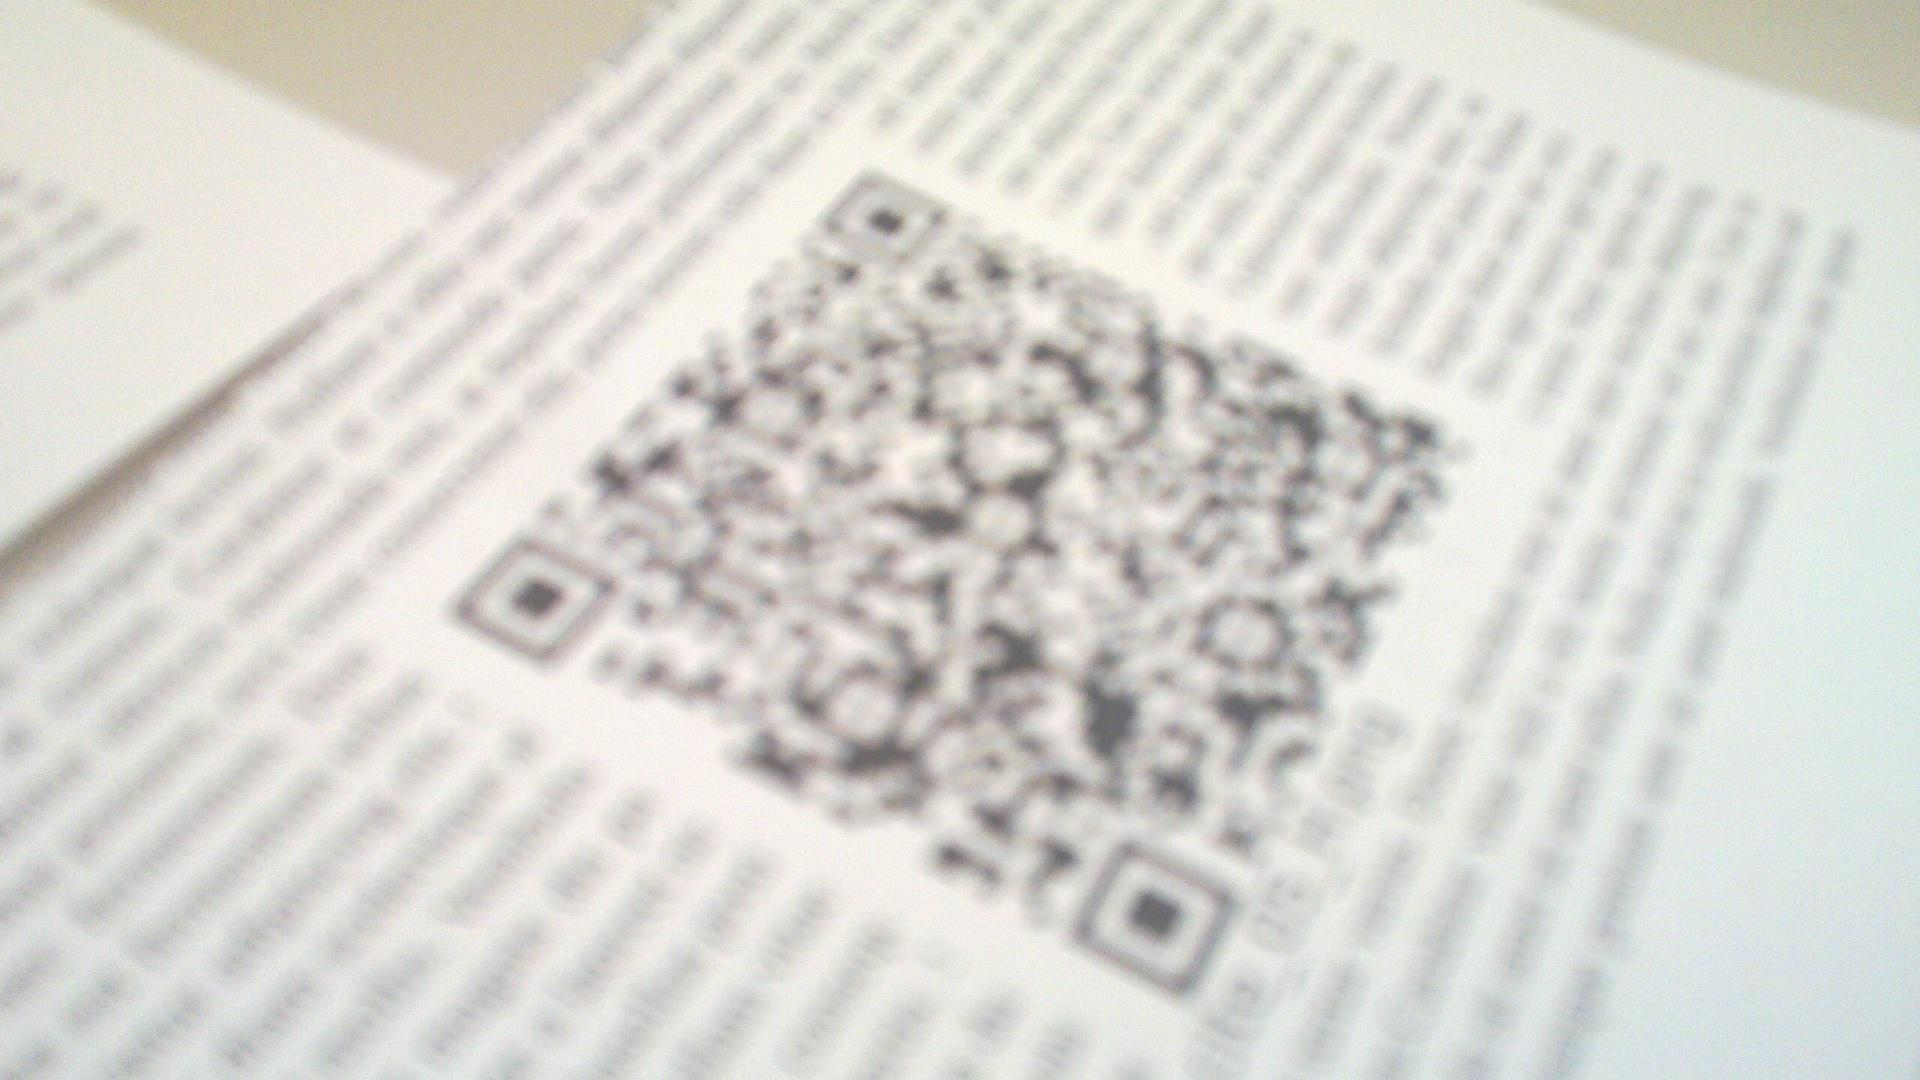qr_code: (454, 166, 1469, 998)
